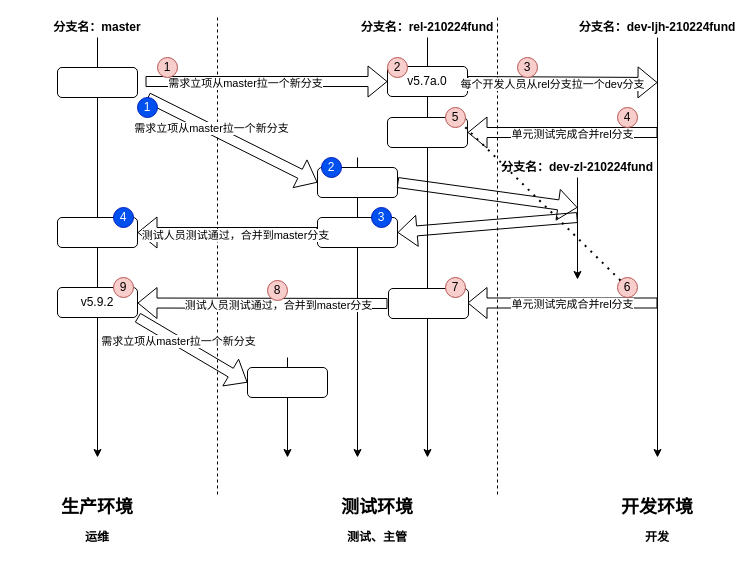
Image size: 754x565. Some labels were removed from this diagram. The box of each missing label's shape, as (x1, y1, x2, y2) in pixels:
v5.7.1: (56, 66, 138, 98)
v5.7a.1: (386, 116, 468, 148)
v5.7a.2: (388, 288, 468, 318)
v5.7b.0: (316, 166, 398, 198)
v5.7b.1: (316, 216, 398, 248)
v5.8.1: (56, 216, 138, 248)
v5.9a.0: (246, 366, 328, 398)
